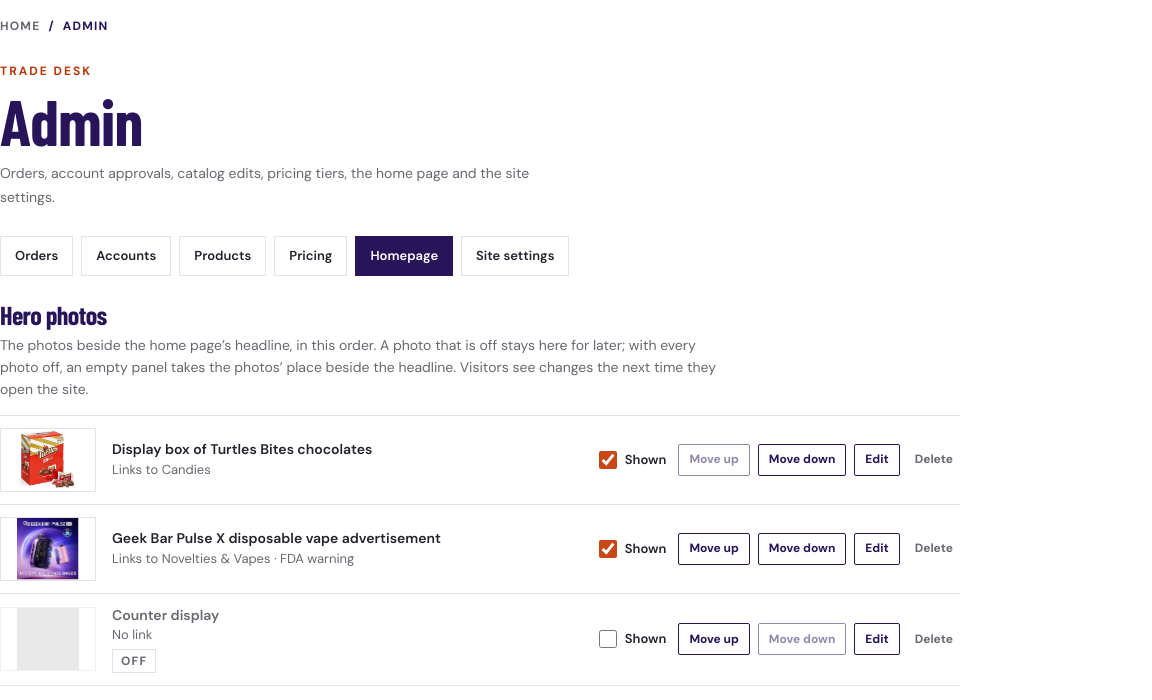
Test case: Admin -> Homepage (AW-119) › deletes a photo only after a confirmation
The width and height of the screenshot is (1152, 700).
Click the button named "Delete Counter display" at (934, 639), box [908,623,960,655]
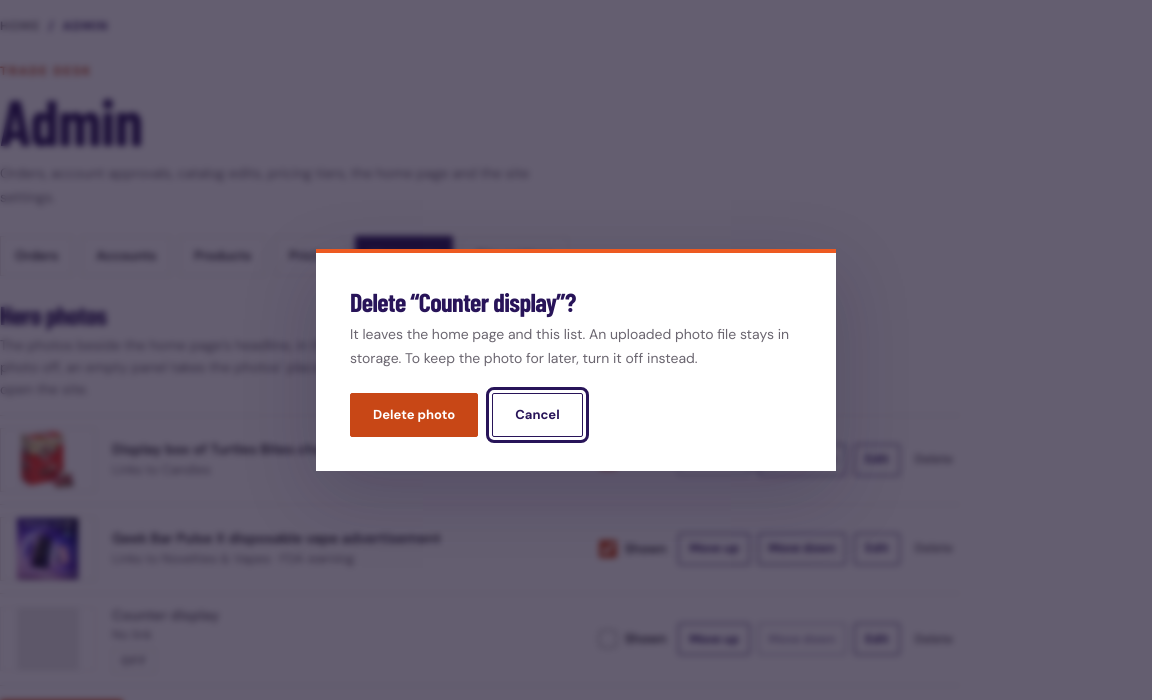
Expected: the heading reads "Delete “Counter display”?", [350,286,576,317]
Expected: the text "An uploaded photo file stays in storage. To keep the photo for later, turn it off instead." is shown, [350,325,789,367]
Click the button "Cancel" at (537, 415), box [492,393,583,437]
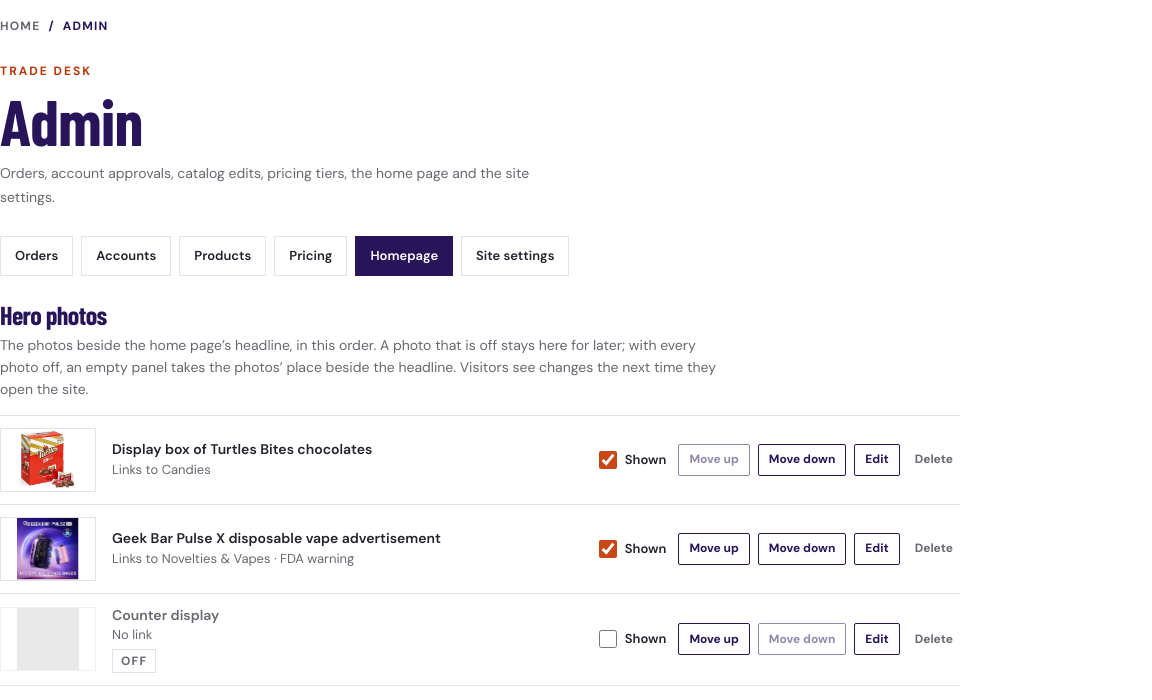
Click the button named "Delete Counter display" at (934, 639), box [908,623,960,655]
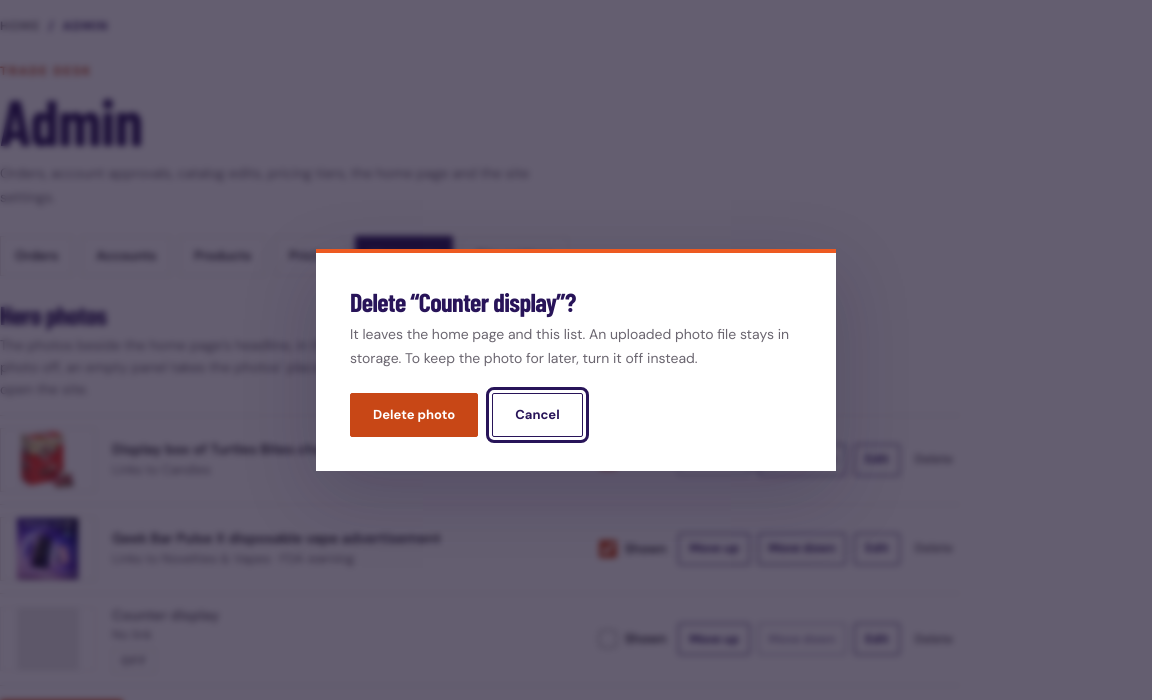
Click the button "Delete photo" at (414, 415), box [350,393,478,437]
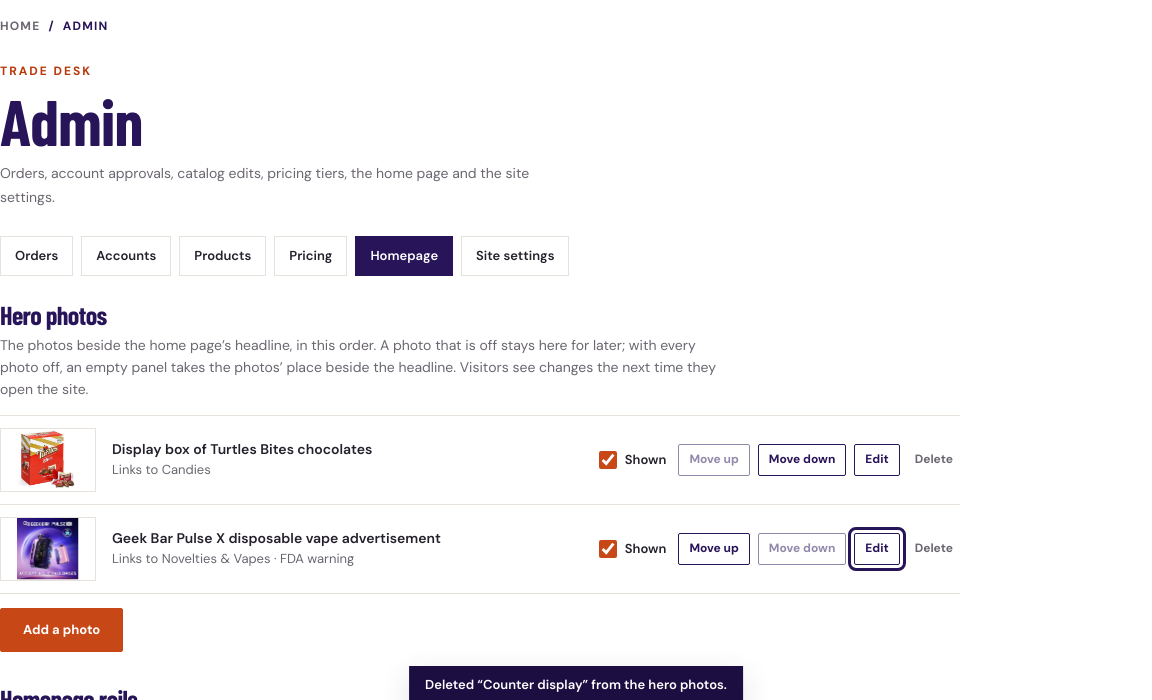
Expected: the message with class "admin-status-text" reads "Deleted “Counter display” from the hero photos.", [425,676,727,693]
